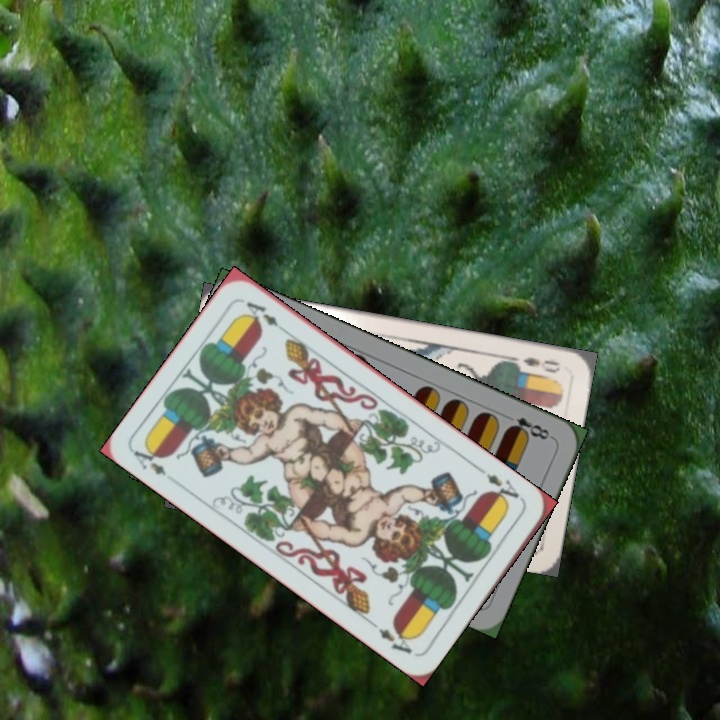E8: (500, 410, 556, 443)
EA: (475, 464, 527, 508), (129, 440, 169, 479)
EO: (509, 353, 563, 378)
